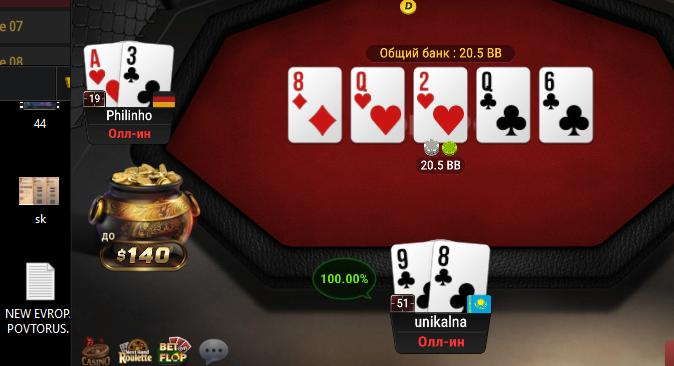2h: (414, 68, 467, 142)
3c: (119, 41, 173, 106)
6c: (540, 68, 592, 141)
8c: (432, 240, 489, 311)
8d: (288, 66, 342, 142)
9c: (390, 242, 431, 313)
Ah: (84, 44, 120, 106)
Qc: (477, 66, 529, 142)
Qh: (352, 68, 404, 143)
